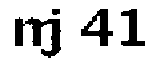1: (117, 6, 148, 52)
4: (78, 5, 115, 52)
j: (41, 7, 65, 60)
m: (10, 20, 55, 47)
